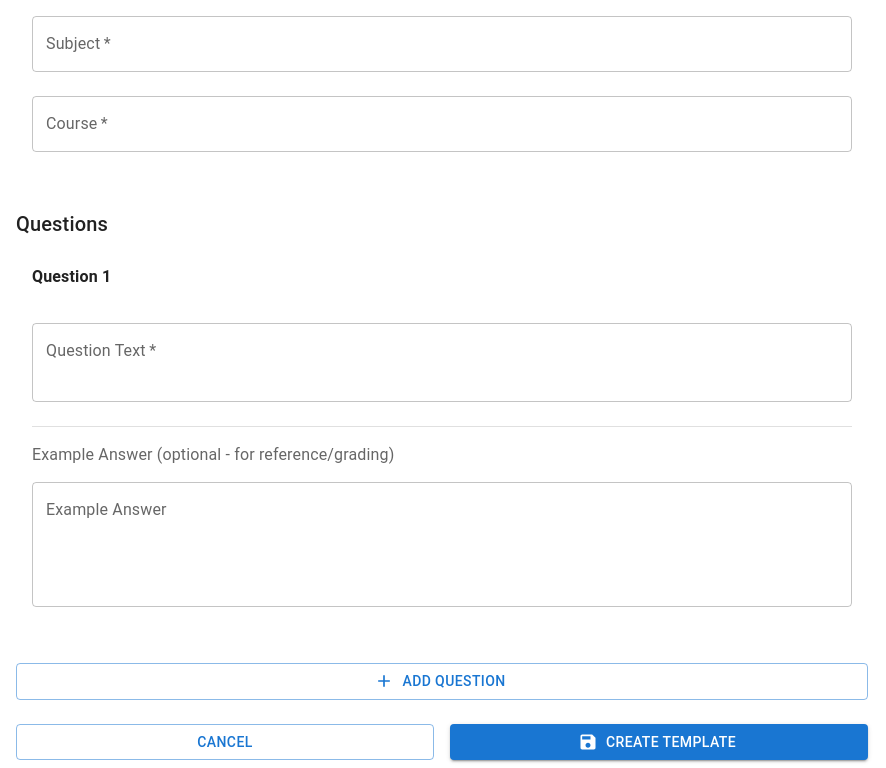
Test: TemplateCreator Component › allows adding and removing questions
(page scrolled)
Expected: the heading "Question 1" is shown, [32, 263, 111, 291]
Expected: the text "Question 2" is not shown
Add a question
Click the button "Add Question": (442, 681) [16, 663, 868, 700]
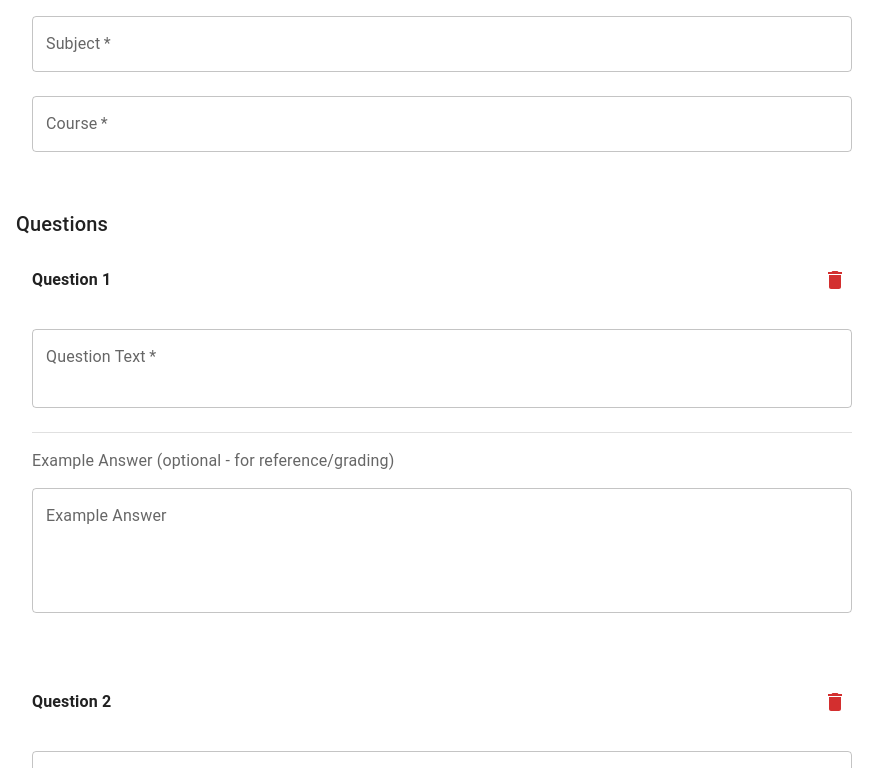
Result: the heading "Question 2" is shown at [32, 688, 111, 716]
